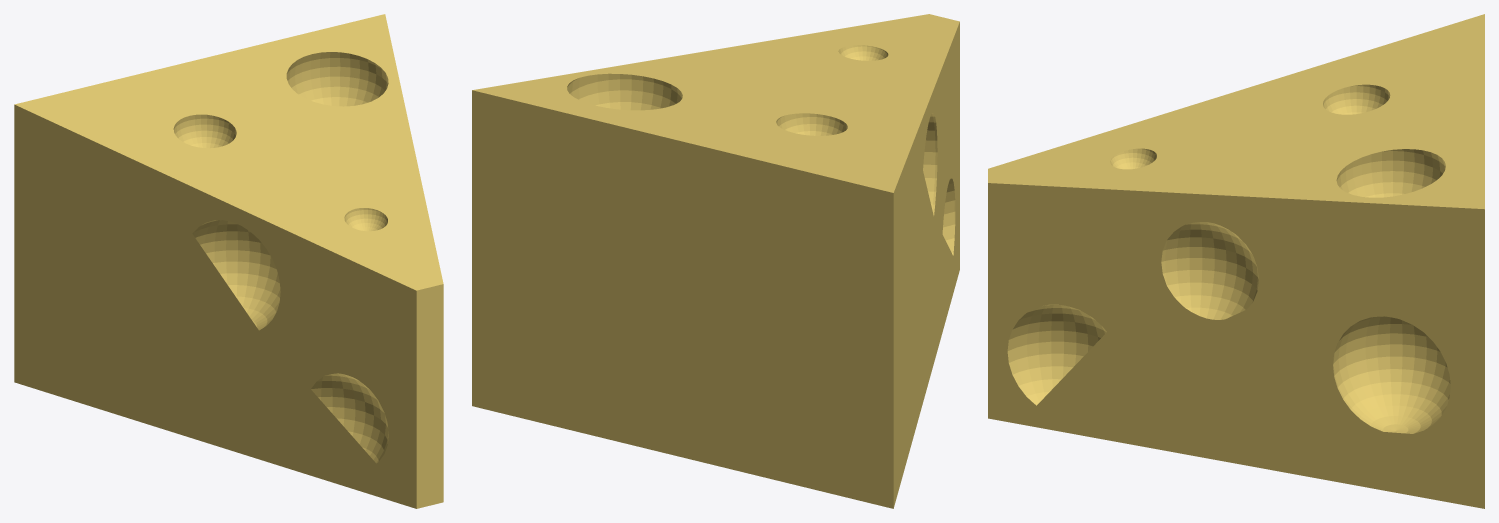
The model's file is Cheese.fbx.
The picture shows the model from 3 angles, left to right: view 1: azimuth 30°, elevation 25°; view 2: azimuth 150°, elevation 25°; view 3: azimuth 270°, elevation 25°; orthographic projection. The views are drawn at different scales.
Parts seen in each view (by area): view 1: Cube.026; view 2: Cube.026; view 3: Cube.026.
Boxes of the visible parts, left/top/right/bottom form: Cube.026: left=14, top=14, right=443, bottom=508; Cube.026: left=472, top=14, right=959, bottom=508; Cube.026: left=988, top=14, right=1484, bottom=508.
Size of the model in its own units: 55.97 by 40.08 by 60.19.
